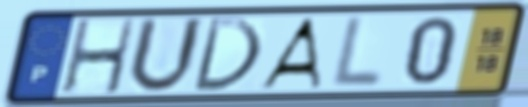0: (402, 14, 463, 87)
A: (254, 15, 324, 90)
D: (189, 16, 265, 94)
H: (59, 17, 138, 97)
L: (326, 13, 387, 91)
U: (123, 15, 207, 97)
